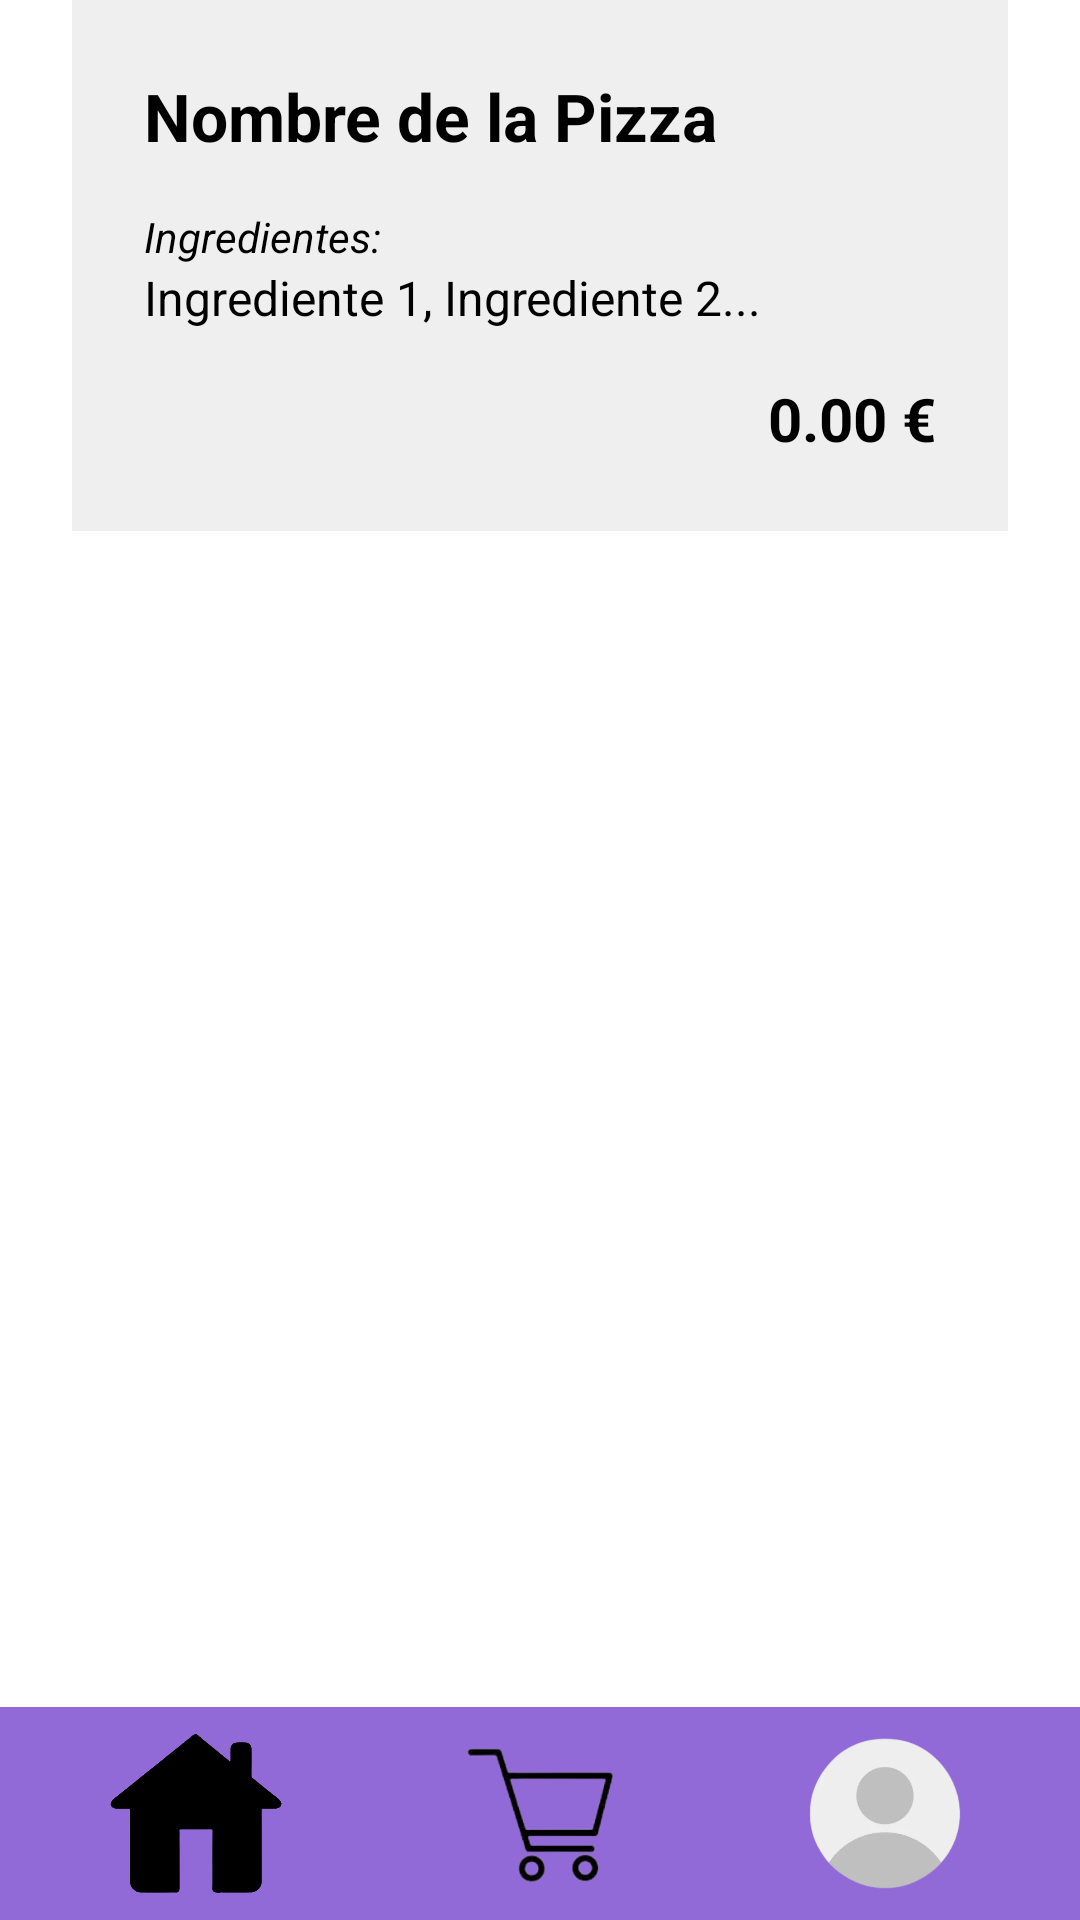

Where to tap for icons on this 1080px x 1920px app screen, as point (x, y):
carrito: point (540, 1815)
casa: point (196, 1813)
perfil: point (885, 1813)
